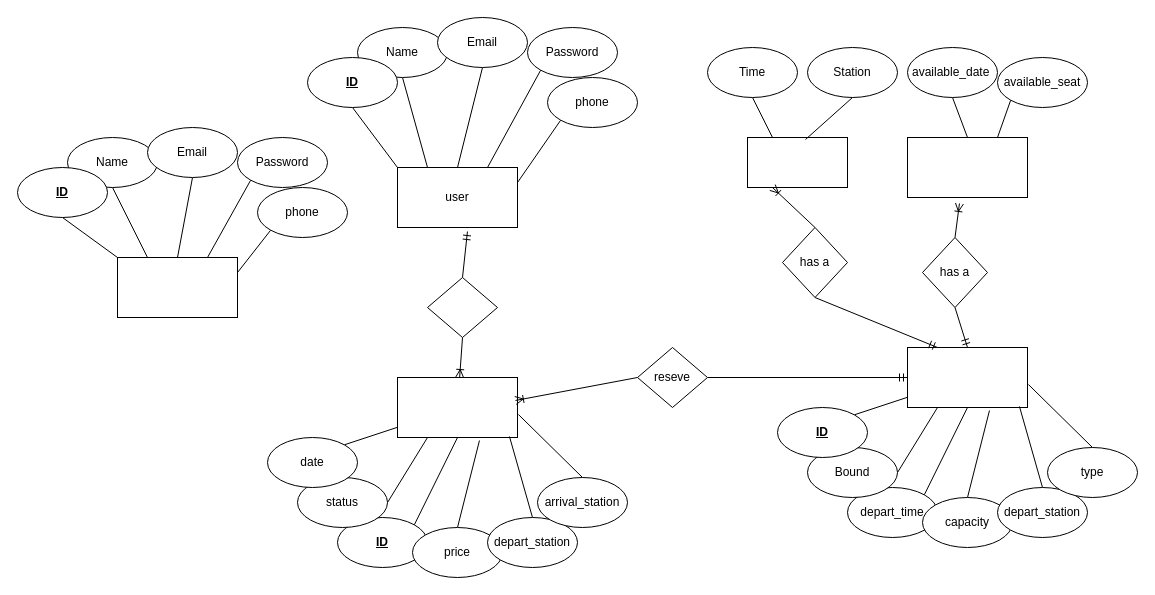
Image size: 1155x595. Some labels were removed from this diagram. Here are the shapes that lost their labels. From the top down, the centre of each, then its label:
At [797,162]: "Schedule".
At [967,167]: "Train_status".
At [177,287]: "agent".
At [462,307]: "buy/cancel".
At [967,377]: "Train".
At [457,407]: "Ticket".
